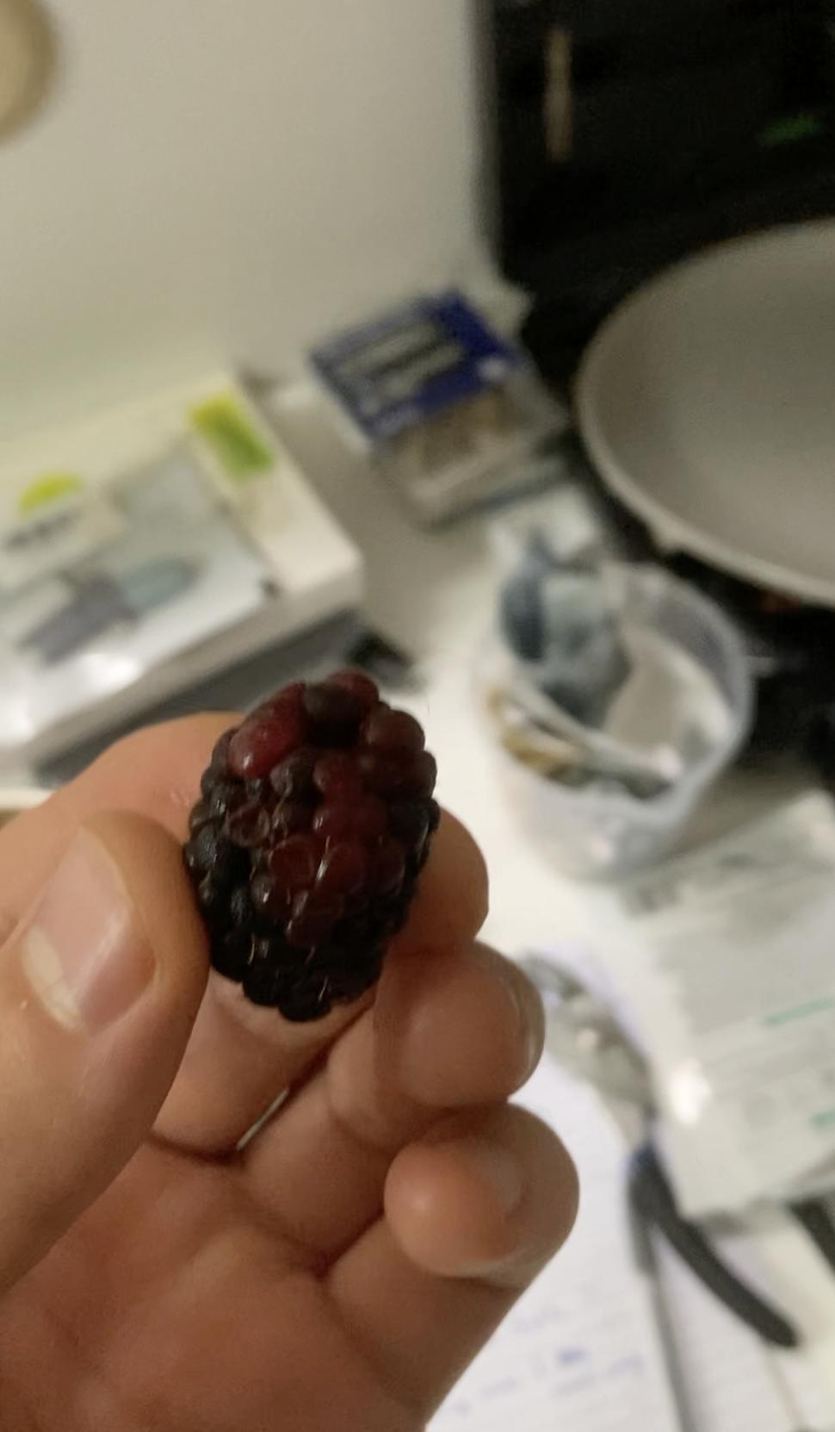berry: (183, 670, 439, 1022)
red drouplet: (226, 685, 303, 779), (312, 789, 387, 850), (269, 831, 322, 899), (313, 841, 369, 905), (311, 750, 371, 809), (362, 704, 424, 755), (324, 668, 378, 705)
